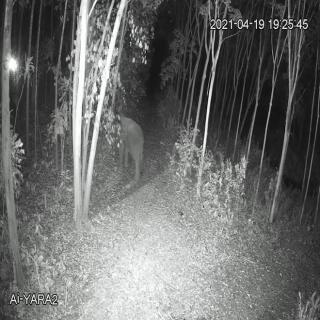Elephant: (110, 109, 148, 181)
